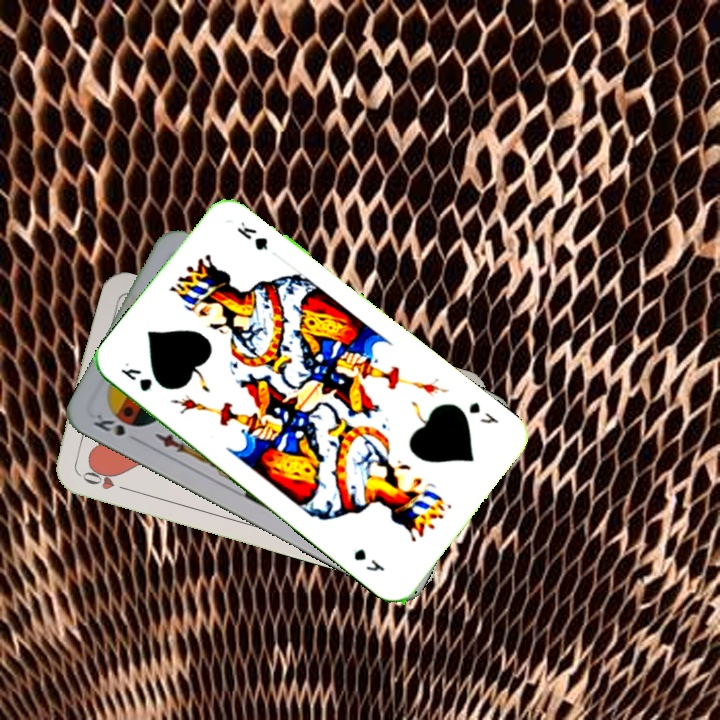GK: (117, 358, 155, 394), (464, 398, 502, 427)
HO: (74, 462, 131, 494)
SK: (89, 409, 128, 439)
